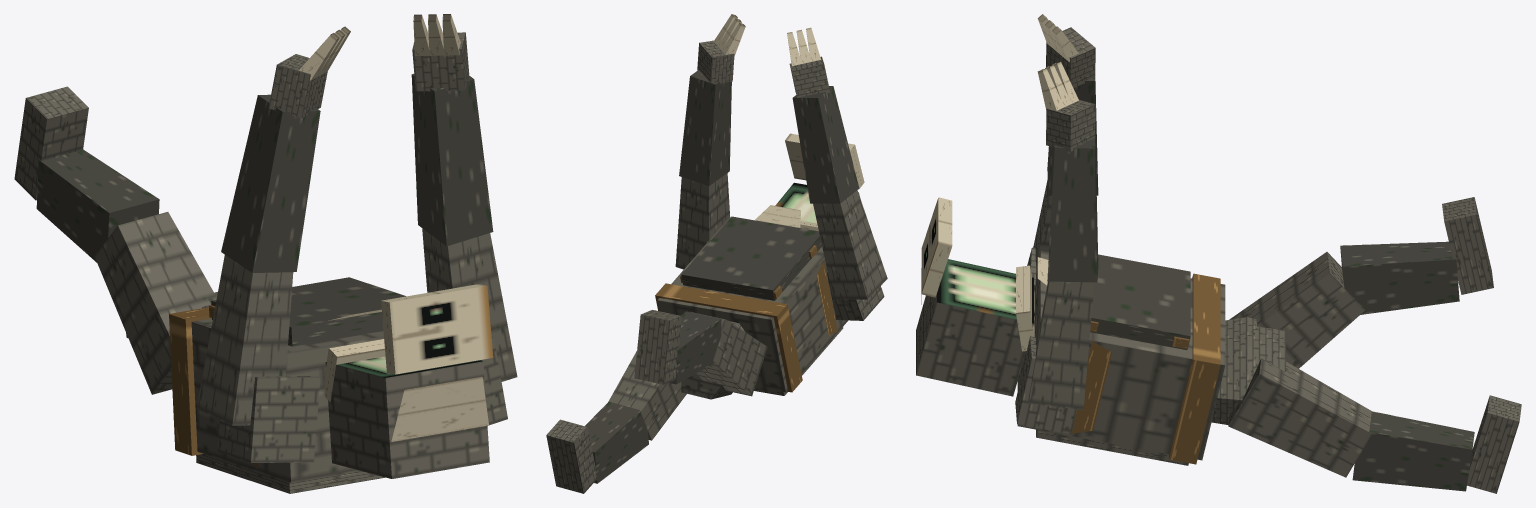
The model's file is reded_attack.obj.
The picture shows the model from 3 angles, left to right: view 1: azimuth 30°, elevation 25°; view 2: azimuth 150°, elevation 25°; view 3: azimuth 270°, elevation 25°; orthographic projection. The views are drawn at different scales.
Parts seen in each view (by area): view 1: spine, head, arm_l_fore, leg_l_thigh, arm_l_upper, arm_r_fore, mask_upper, leg_l_shin, shoulder_l, arm_r_upper, leg_l_foot, arm_r_hand (+3 smaller); view 2: spine, arm_l_upper, arm_l_fore, arm_r_fore, arm_r_upper, leg_r_shin, leg_l_thigh, leg_l_foot, leg_r_foot, leg_r_thigh, leg_l_shin, arm_l_hand (+5 smaller); view 3: spine, head, leg_r_thigh, leg_l_shin, leg_r_shin, leg_l_thigh, arm_r_upper, arm_r_fore, root, arm_r_hand, leg_r_foot, leg_l_foot (+6 smaller).
Part boxes in pixels (<box>): spine: <box>169,277,405,493</box>; head: <box>325,356,489,478</box>; arm_l_fore: <box>221,94,320,272</box>; leg_l_thigh: <box>94,212,216,394</box>; arm_l_upper: <box>196,255,293,425</box>; arm_r_fore: <box>411,73,493,246</box>; mask_upper: <box>381,284,493,374</box>; leg_l_shin: <box>36,149,159,262</box>; shoulder_l: <box>217,376,320,462</box>; arm_r_upper: <box>422,228,517,381</box>; leg_l_foot: <box>14,86,88,200</box>; arm_r_hand: <box>412,14,469,91</box>; spine: <box>655,205,848,395</box>; arm_l_upper: <box>813,190,887,299</box>; arm_l_fore: <box>792,86,859,203</box>; arm_r_fore: <box>679,70,731,185</box>; arm_r_upper: <box>675,173,730,269</box>; leg_r_shin: <box>585,401,648,483</box>; leg_l_thigh: <box>691,312,767,396</box>; leg_l_foot: <box>634,310,681,384</box>; leg_r_foot: <box>546,419,596,493</box>; leg_r_thigh: <box>608,351,686,440</box>; leg_l_shin: <box>669,311,721,384</box>; arm_l_hand: <box>787,27,830,97</box>; spine: <box>1017,251,1225,465</box>; head: <box>916,259,1033,396</box>; leg_r_thigh: <box>1228,358,1371,477</box>; leg_l_shin: <box>1340,241,1459,314</box>; leg_r_shin: <box>1352,411,1474,491</box>; leg_l_thigh: <box>1229,252,1365,368</box>; arm_r_upper: <box>1028,281,1094,409</box>; arm_r_fore: <box>1047,136,1098,282</box>; root: <box>1211,317,1285,424</box>; arm_r_hand: <box>1037,62,1095,151</box>; leg_r_foot: <box>1467,395,1521,493</box>; leg_l_foot: <box>1442,197,1493,294</box>.
Size of the model in its own units: 0.4574 by 0.7852 by 0.9928.
Materials: 1 (1 with a texture image).
